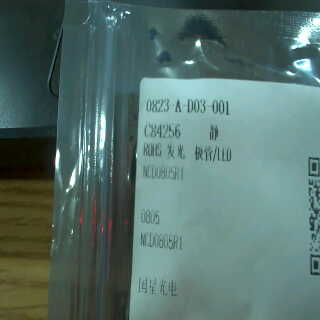LED: (165, 140, 237, 159)
